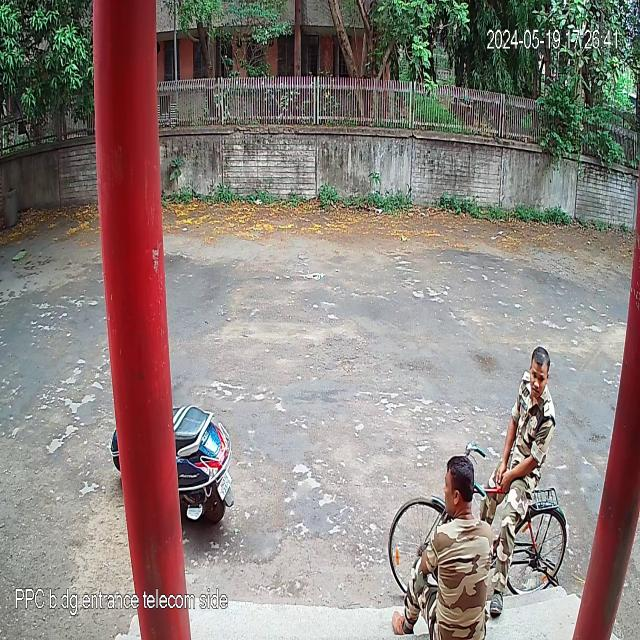Boots: (383, 597, 416, 640), (484, 583, 509, 624)
NO-Hardhat: (437, 450, 477, 516), (518, 331, 551, 397)
Person: (415, 455, 497, 640)
